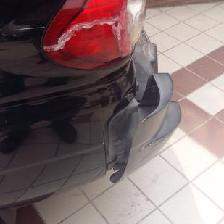broken_part: (44, 11, 133, 55)
